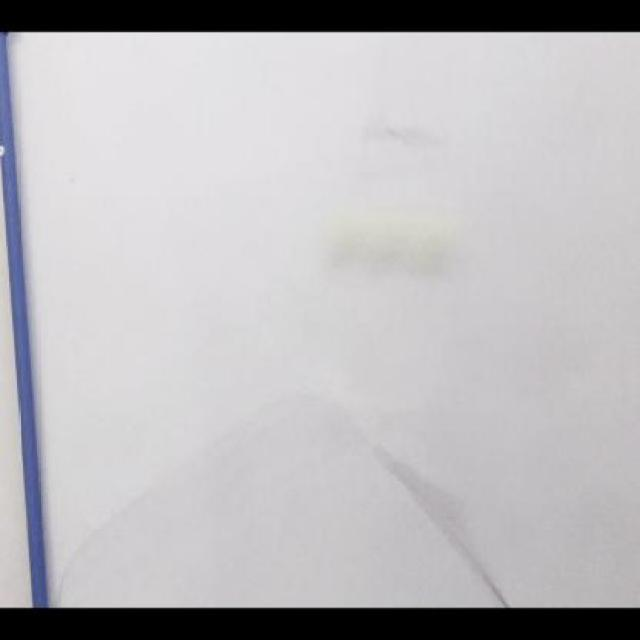baseball: (323, 198, 451, 282)
